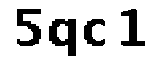1: (114, 7, 150, 50)
5: (7, 3, 45, 50)
c: (80, 16, 108, 49)
q: (47, 15, 80, 60)
